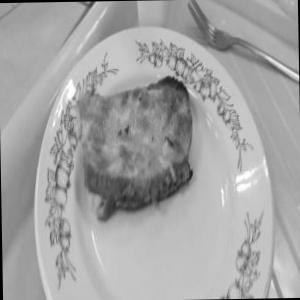cheese_sandwich: (56, 77, 232, 216)
